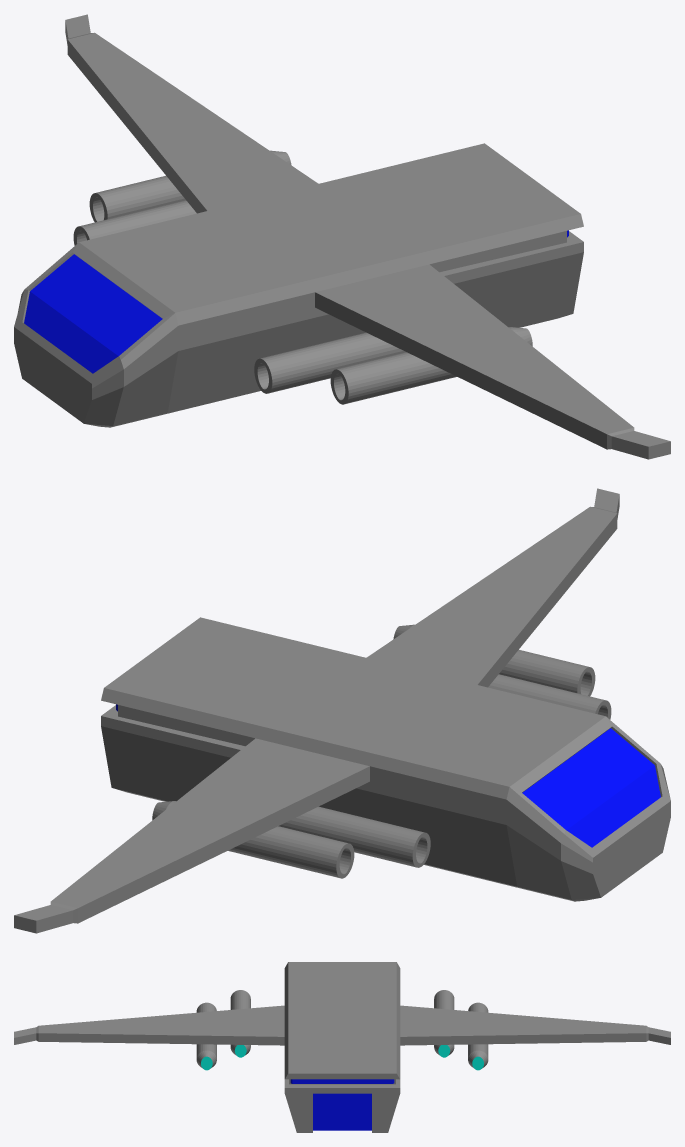
The model's file is VOAL_TroopTransport.fbx.
3 views of the same model, one above another, from view 1: azimuth 30°, elevation 25°; view 2: azimuth 150°, elevation 25°; view 3: azimuth 270°, elevation 25° (orthographic). The views are drawn at different scales.
Visible parts, largest first — view 1: VOAL_TroopTransport; view 2: VOAL_TroopTransport; view 3: VOAL_TroopTransport.
Boxes of the visible parts, bbox=[...] form: VOAL_TroopTransport: bbox=[14, 14, 670, 459]; VOAL_TroopTransport: bbox=[14, 488, 670, 933]; VOAL_TroopTransport: bbox=[14, 962, 670, 1132].
Bounding box in the file's own units: 920 × 200 × 1936.
